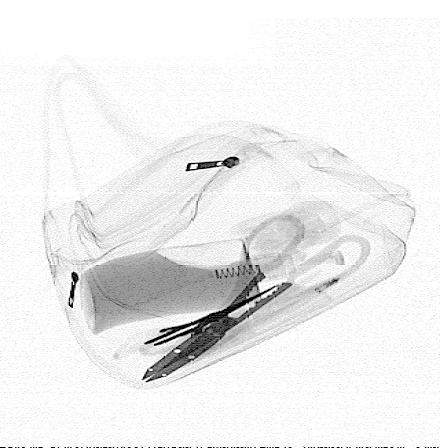Scissors: (133, 211, 376, 387), (136, 282, 287, 350)
